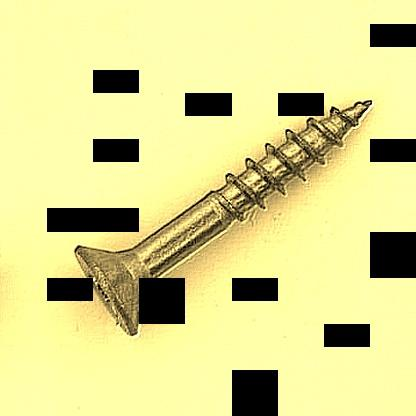metal: (75, 98, 373, 337)
